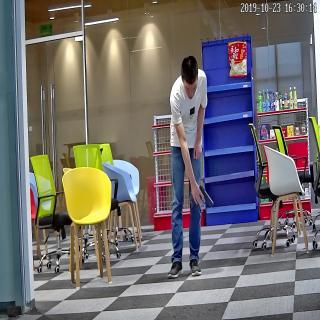gun: (191, 182, 213, 210)
